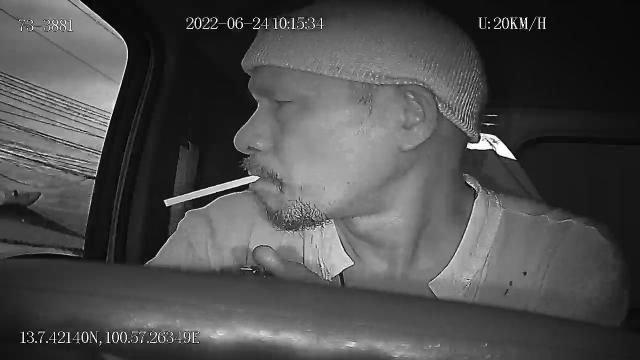Smoking: (162, 174, 262, 207)
